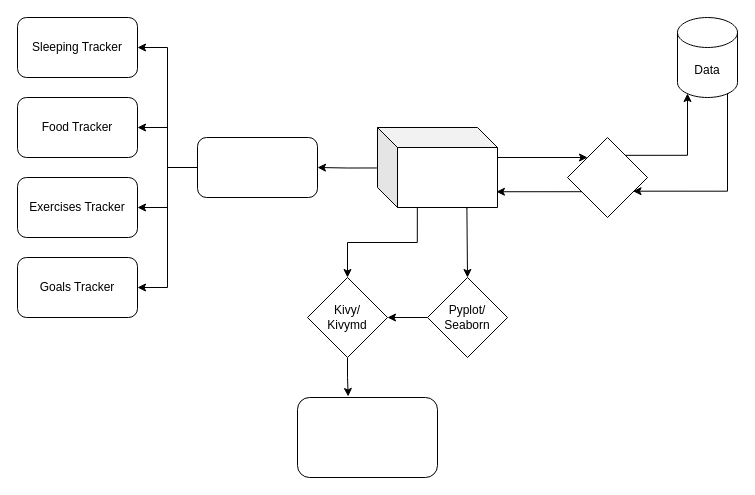
This 755x495 diagram has some shape labels left out. The centre of each missing label's shape, as x and y in pixels:
"Application Main loop" belongs at (x=437, y=167).
"BaseTracker" belongs at (x=257, y=167).
"GUI/TUI" belongs at (x=367, y=437).
"Pandas sqlite" belongs at (x=607, y=177).
